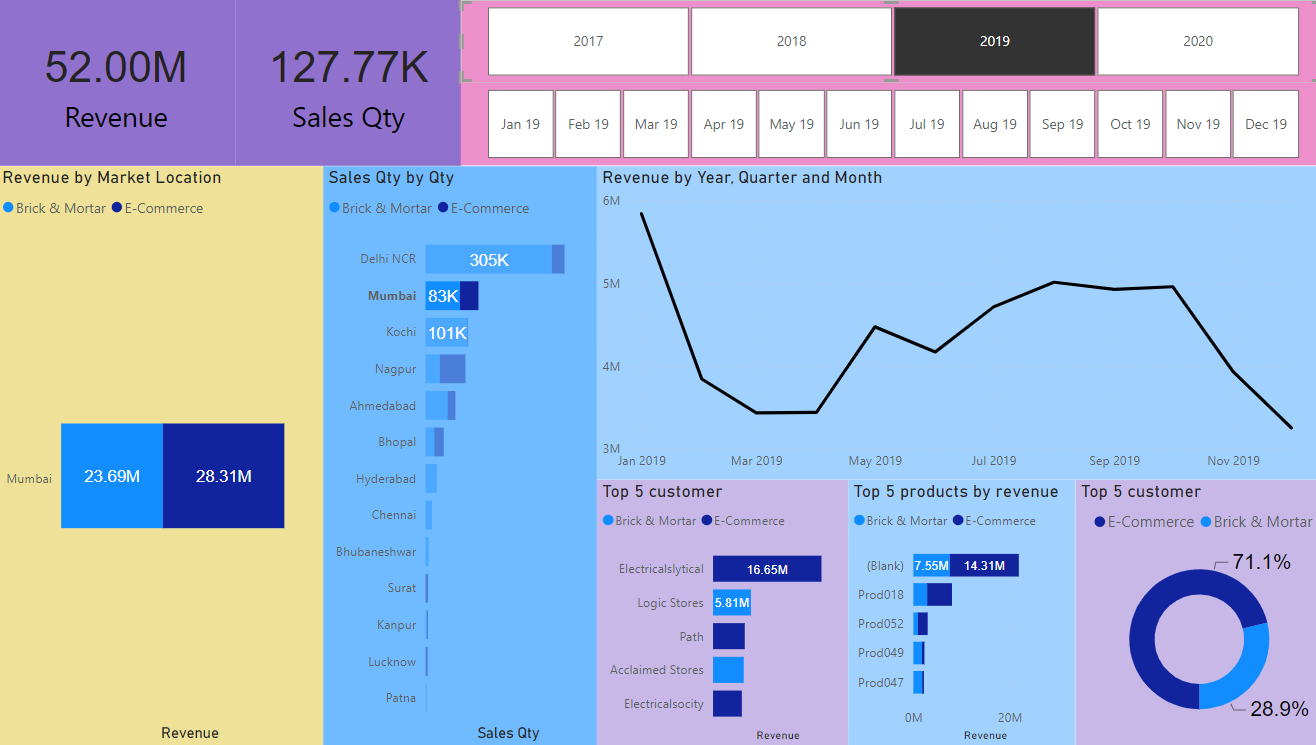

The page's visual inventory and layout, read from the dashboard file:
{"tool":"powerbi","page":{"name":"Page 1","canvas":[1280,720],"ordinal":0},"visuals":[{"type":"card","fields":{"Values":["BaseMeasures.Revenue"]},"box":[0,0,230,160],"z":0},{"type":"card","fields":{"Values":["BaseMeasures.Sales Qty"]},"box":[230,0,217.5,160],"z":1000},{"type":"barChart","title":"Revenue by Market Location","fields":{"Y":["BaseMeasures.Revenue"],"Category":["sales markets.markets_name"],"Series":["sales customers.customer_type"]},"box":[0,160,315,560],"z":2000},{"type":"barChart","title":"Sales Qty by Qty","fields":{"Y":["BaseMeasures.Sales Qty"],"Category":["sales markets.markets_name"],"Series":["sales customers.customer_type"]},"box":[315,160,263.8,560],"z":3000},{"type":"slicer","fields":{"Values":["sales date.year"]},"box":[447.5,0,832.5,80],"z":4000},{"type":"slicer","fields":{"Values":["sales date.cy_date"]},"box":[447.5,80,832.5,80],"z":5000},{"type":"barChart","title":"Top 5 customer","fields":{"Category":["sales customers.custmer_name"],"Y":["BaseMeasures.Revenue"],"Series":["sales customers.customer_type"]},"box":[578.8,538.8,242.5,181.2],"z":6000},{"type":"barChart","title":"Top 5 products by revenue","fields":{"Category":["sales products.product_code"],"Y":["BaseMeasures.Revenue"],"Series":["sales customers.customer_type"]},"box":[821.2,538.8,220,181.2],"z":7000},{"type":"lineChart","fields":{"Y":["BaseMeasures.Revenue"],"Category":["sales date.cy_date.Variation.Date Hierarchy.Year","sales date.cy_date.Variation.Date Hierarchy.Quarter","sales date.cy_date.Variation.Date Hierarchy.Month","sales date.cy_date.Variation.Date Hierarchy.Day"]},"box":[578.8,160,701.2,378.8],"z":8000},{"type":"donutChart","title":"Top 5 customer","fields":{"Category":["sales customers.customer_type"],"Y":["BaseMeasures.Revenue"]},"box":[1037.5,538.8,242.5,181.2],"z":8001}]}

Visuals, with their boxes in screenshot pixels (x1, y1, x2, y2), scaled from the page's 1280x720 canvas onto the 1316x745 screenshot:
card - BaseMeasures.Revenue: left=0, top=0, right=236, bottom=166
card - BaseMeasures.Sales Qty: left=236, top=0, right=460, bottom=166
"Revenue by Market Location" barChart: left=0, top=166, right=324, bottom=744
"Sales Qty by Qty" barChart: left=324, top=166, right=595, bottom=744
slicer - sales date.year: left=460, top=0, right=1315, bottom=83
slicer - sales date.cy_date: left=460, top=83, right=1315, bottom=166
"Top 5 customer" barChart: left=595, top=558, right=844, bottom=744
"Top 5 products by revenue" barChart: left=844, top=558, right=1070, bottom=744
lineChart - BaseMeasures.Revenue x sales date.cy_date.Variation.Date Hierarchy.Year: left=595, top=166, right=1315, bottom=558
"Top 5 customer" donutChart: left=1067, top=558, right=1315, bottom=744
